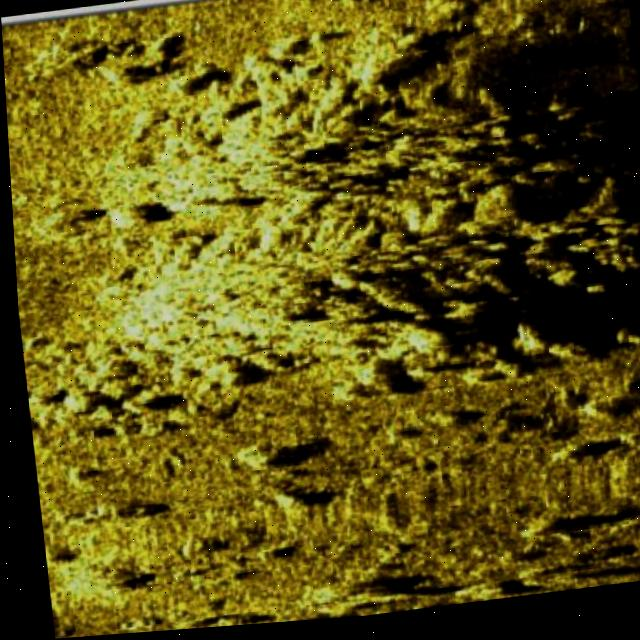bedrock group: (3, 19, 640, 434)
